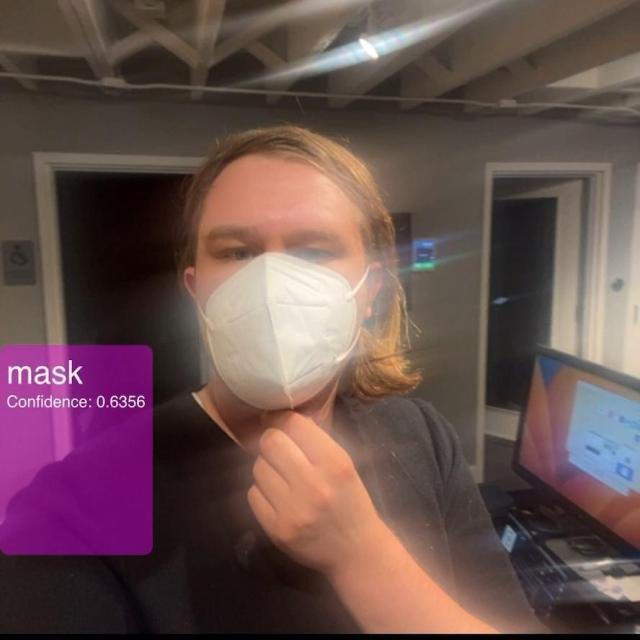no hat: (164, 116, 392, 431)
